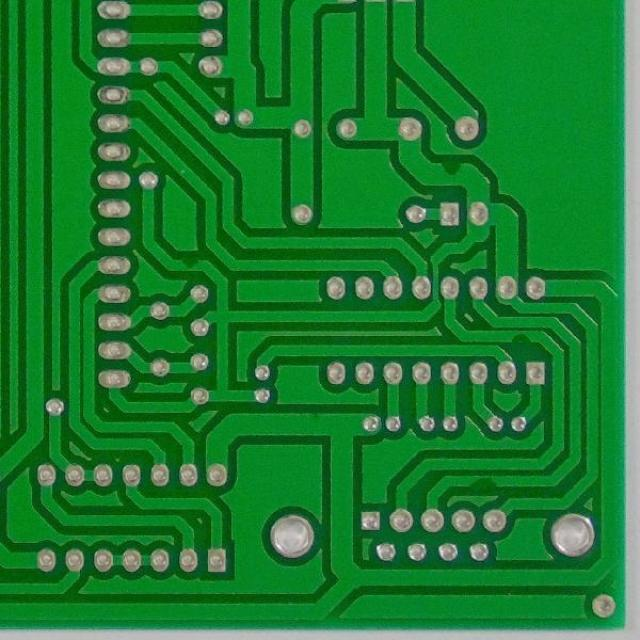MouseBite: (436, 159, 466, 189), (467, 472, 498, 491), (507, 328, 531, 346), (177, 256, 203, 272)
